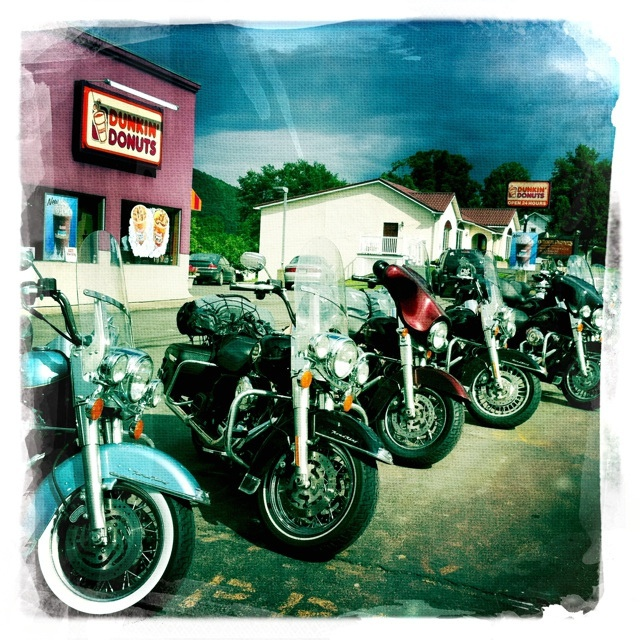non-vehicle: (142, 237, 381, 569), (25, 230, 207, 622), (348, 260, 473, 466), (451, 253, 618, 407), (449, 249, 547, 429)
